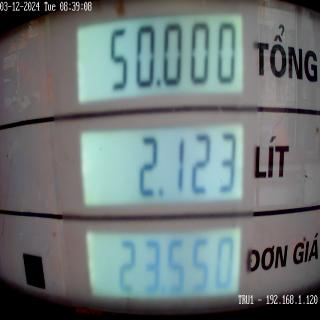screen: (74, 6, 248, 312)
